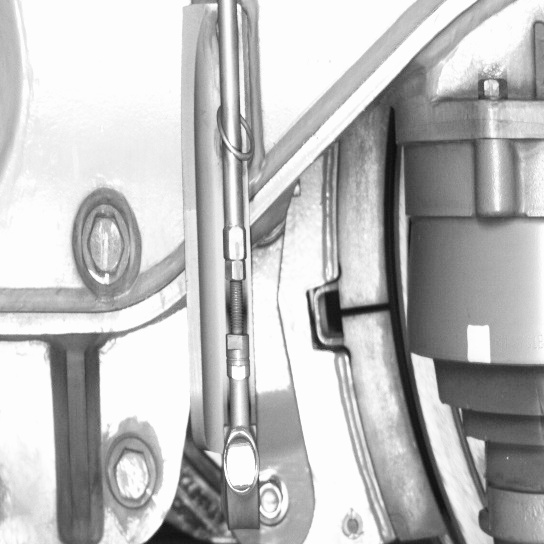KnifeSwitch: (341, 141, 469, 542)
